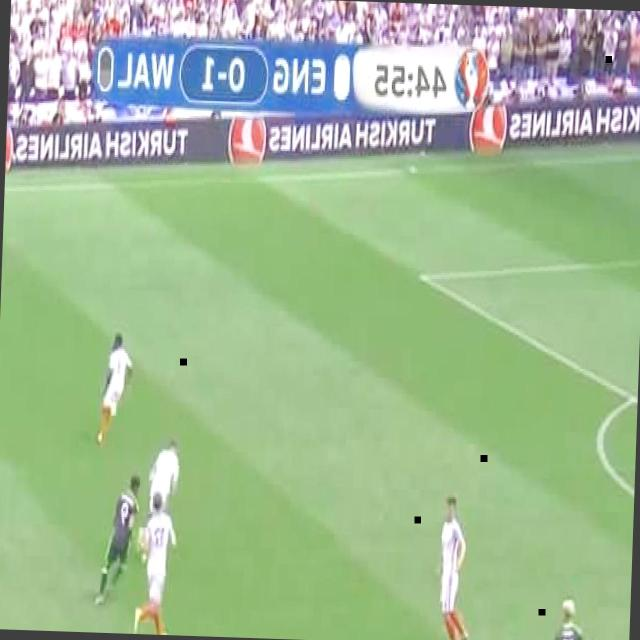player-white: (134, 491, 180, 635), (95, 472, 141, 610), (436, 495, 472, 640), (96, 331, 134, 448), (146, 439, 180, 523), (546, 597, 606, 640)
